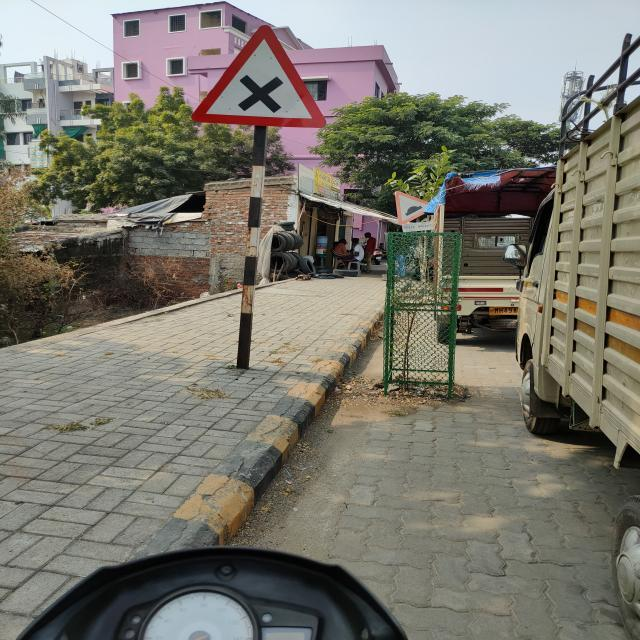cross road: (189, 21, 330, 129)
